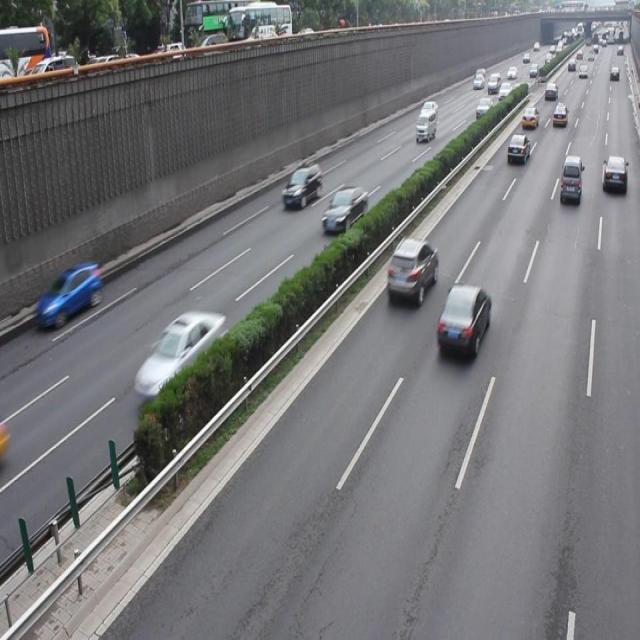car: (134, 308, 224, 400), (434, 282, 491, 357), (39, 261, 103, 327), (385, 237, 438, 303), (321, 184, 367, 234), (280, 162, 321, 212), (601, 154, 626, 192)
truck: (560, 153, 581, 205)
